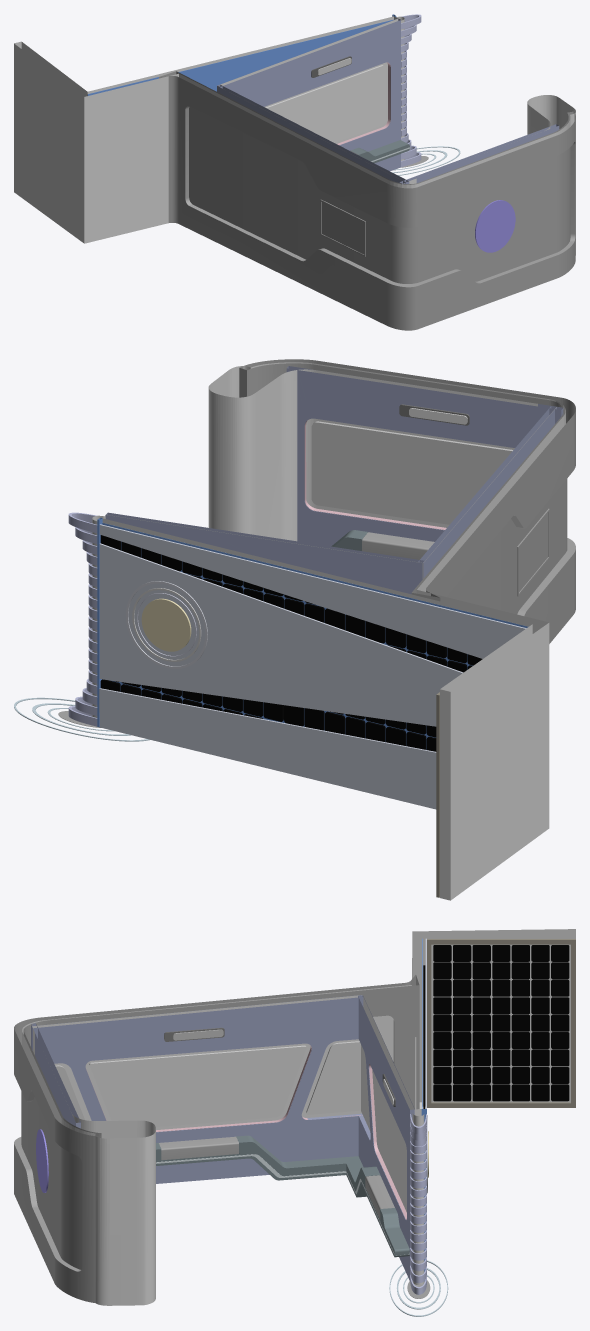
3 renders of one model, top to bottom at view 1: azimuth 30°, elevation 25°; view 2: azimuth 150°, elevation 25°; view 3: azimuth 270°, elevation 25°, orthographic. The views are drawn at different scales.
Parts seen in each view (by area): view 1: polySurface662; view 2: polySurface662; view 3: polySurface662.
Boxes of the visible parts, left/top/right/bottom form: polySurface662: left=14, top=14, right=575, bottom=330; polySurface662: left=14, top=359, right=575, bottom=900; polySurface662: left=14, top=929, right=575, bottom=1316.
Bounding box in the file's own units: 990 × 375 × 1098.
